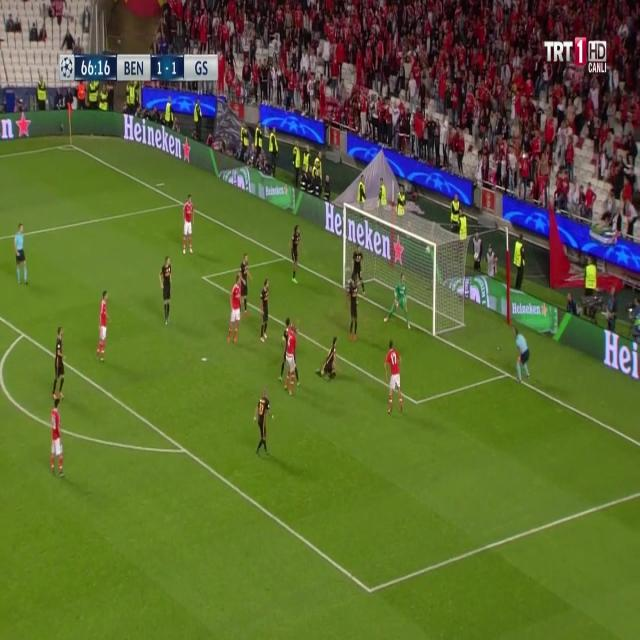Ball: (424, 244, 432, 256)
Goalkeeper: (382, 272, 414, 329)
Player: (383, 340, 405, 419), (253, 389, 275, 460), (94, 286, 111, 366), (49, 397, 65, 478), (226, 276, 245, 344), (282, 320, 298, 399), (316, 333, 341, 383), (157, 254, 174, 327), (52, 324, 67, 399), (350, 242, 368, 295), (258, 276, 272, 344), (346, 276, 360, 342), (289, 222, 303, 286), (239, 252, 253, 315), (182, 192, 195, 258)
Referee: (511, 324, 533, 383), (12, 219, 31, 287)
